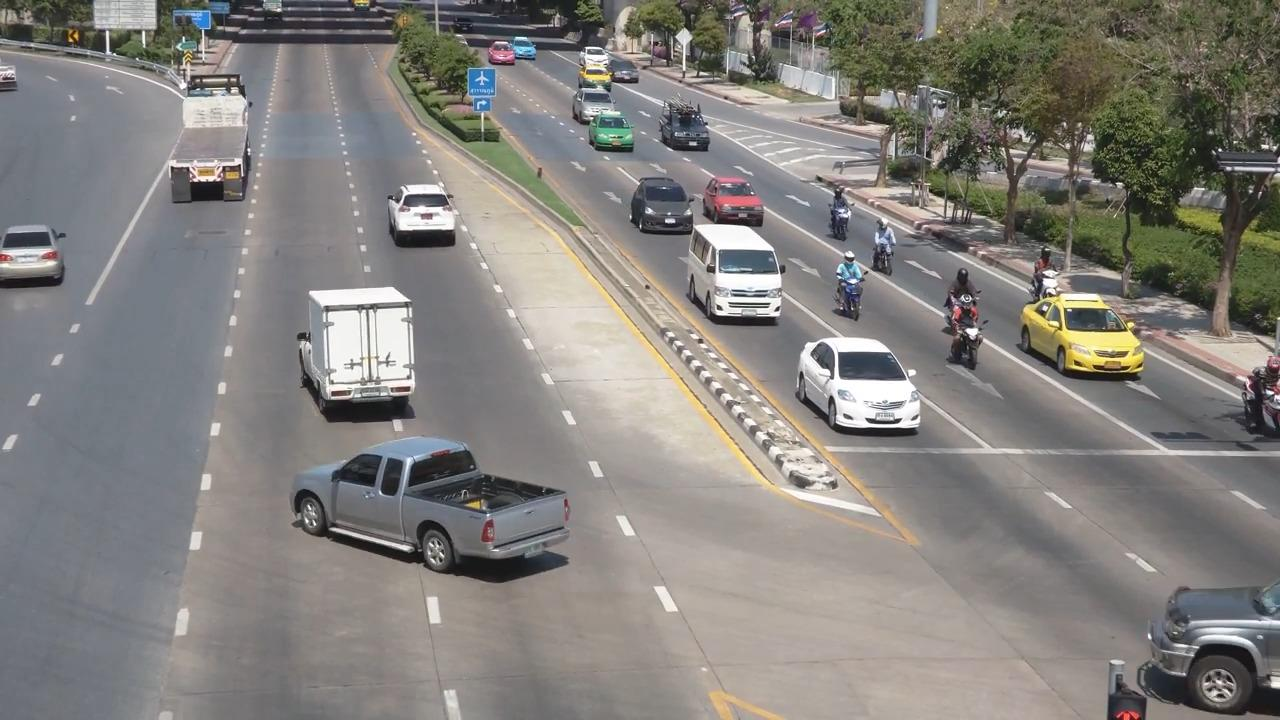CAR: (284, 427, 591, 605), (1123, 549, 1280, 711), (288, 276, 438, 426), (1004, 279, 1150, 386), (794, 317, 922, 434), (667, 206, 769, 316), (377, 170, 473, 258), (0, 210, 75, 305), (692, 168, 770, 229), (618, 156, 683, 222), (657, 101, 714, 153), (575, 99, 626, 142), (571, 45, 622, 79), (507, 29, 541, 66), (482, 36, 515, 68)
HGV_BUS: (158, 56, 280, 215)
MOTOR: (1225, 351, 1280, 444), (930, 293, 992, 370), (831, 252, 876, 320), (859, 211, 900, 269), (1018, 236, 1056, 297), (821, 181, 856, 239)
